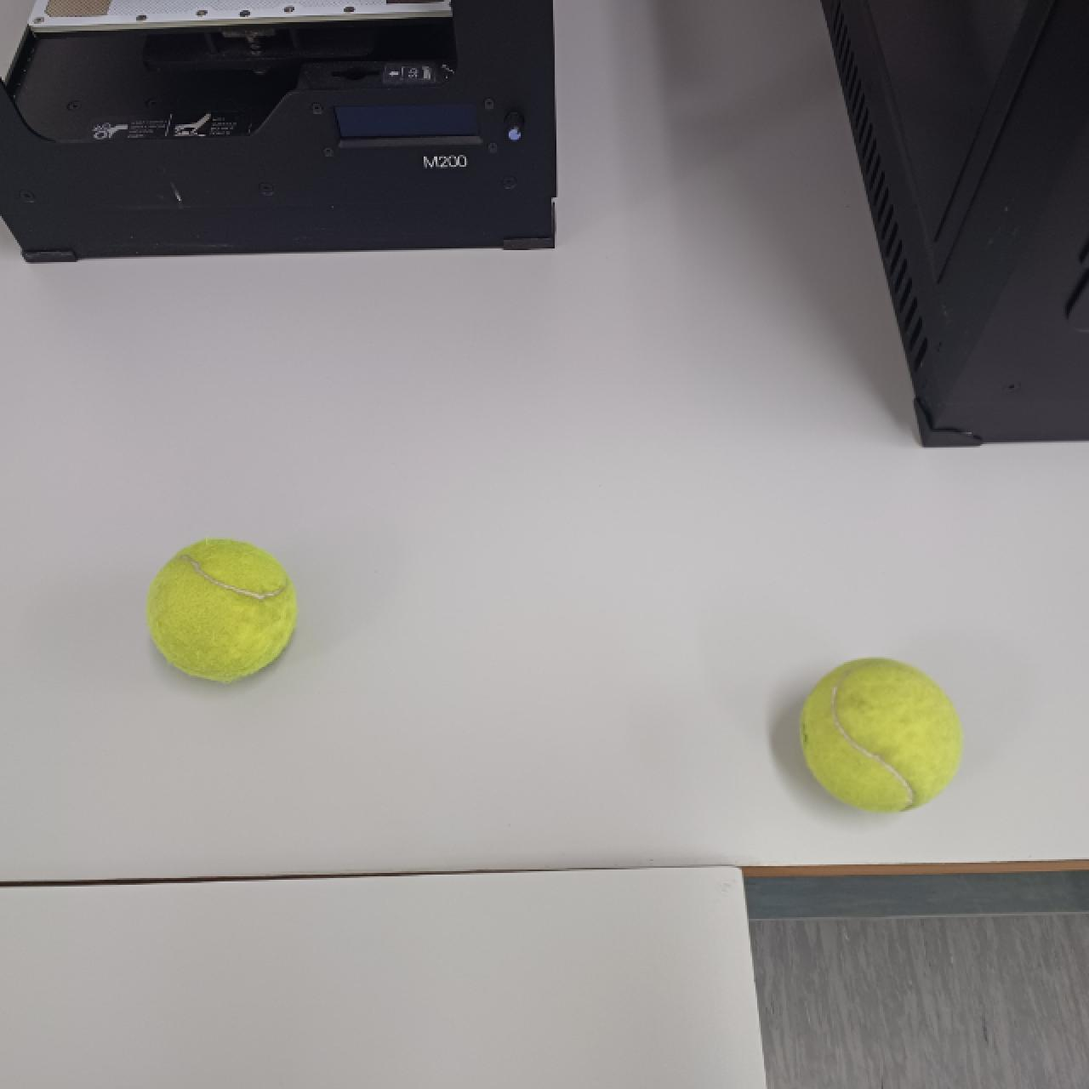tennis-ball: (797, 656, 963, 814), (144, 537, 298, 684)
